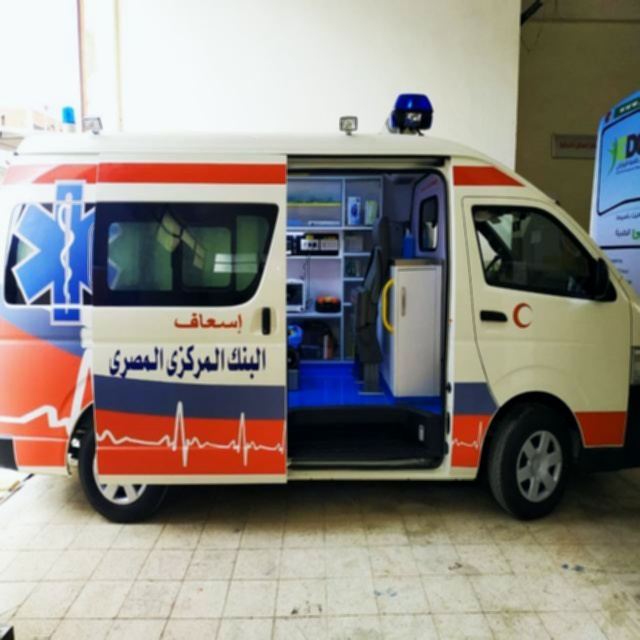Ambulance: (0, 92, 639, 523)
